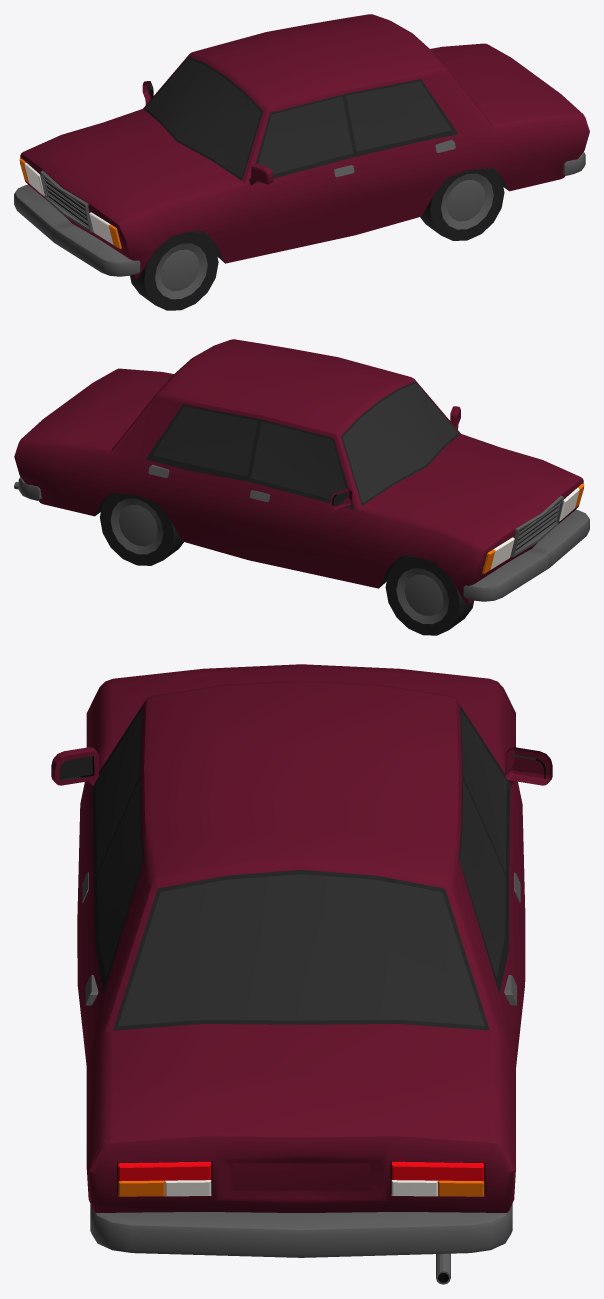
The model's file is sem.fbx.
3 renders of one model, top to bottom at view 1: azimuth 30°, elevation 25°; view 2: azimuth 150°, elevation 25°; view 3: azimuth 270°, elevation 25°, orthographic. The views are drawn at different scales.
Parts seen in each view (by area): view 1: Cube, Cylinder, Cylinder.001; view 2: Cube, Cylinder.003, Cylinder.002; view 3: Cube.
Boxes of the visible parts, <box> form: Cube: <box>14,14,589,278</box>; Cylinder: <box>130,230,218,310</box>; Cylinder.001: <box>420,168,504,240</box>; Cube: <box>14,339,589,603</box>; Cylinder.003: <box>385,555,473,635</box>; Cylinder.002: <box>100,493,183,565</box>; Cube: <box>51,664,552,1284</box>.
Size of the model in its own units: 865 by 297 by 377.
Materials: 2 (2 with a texture image).
